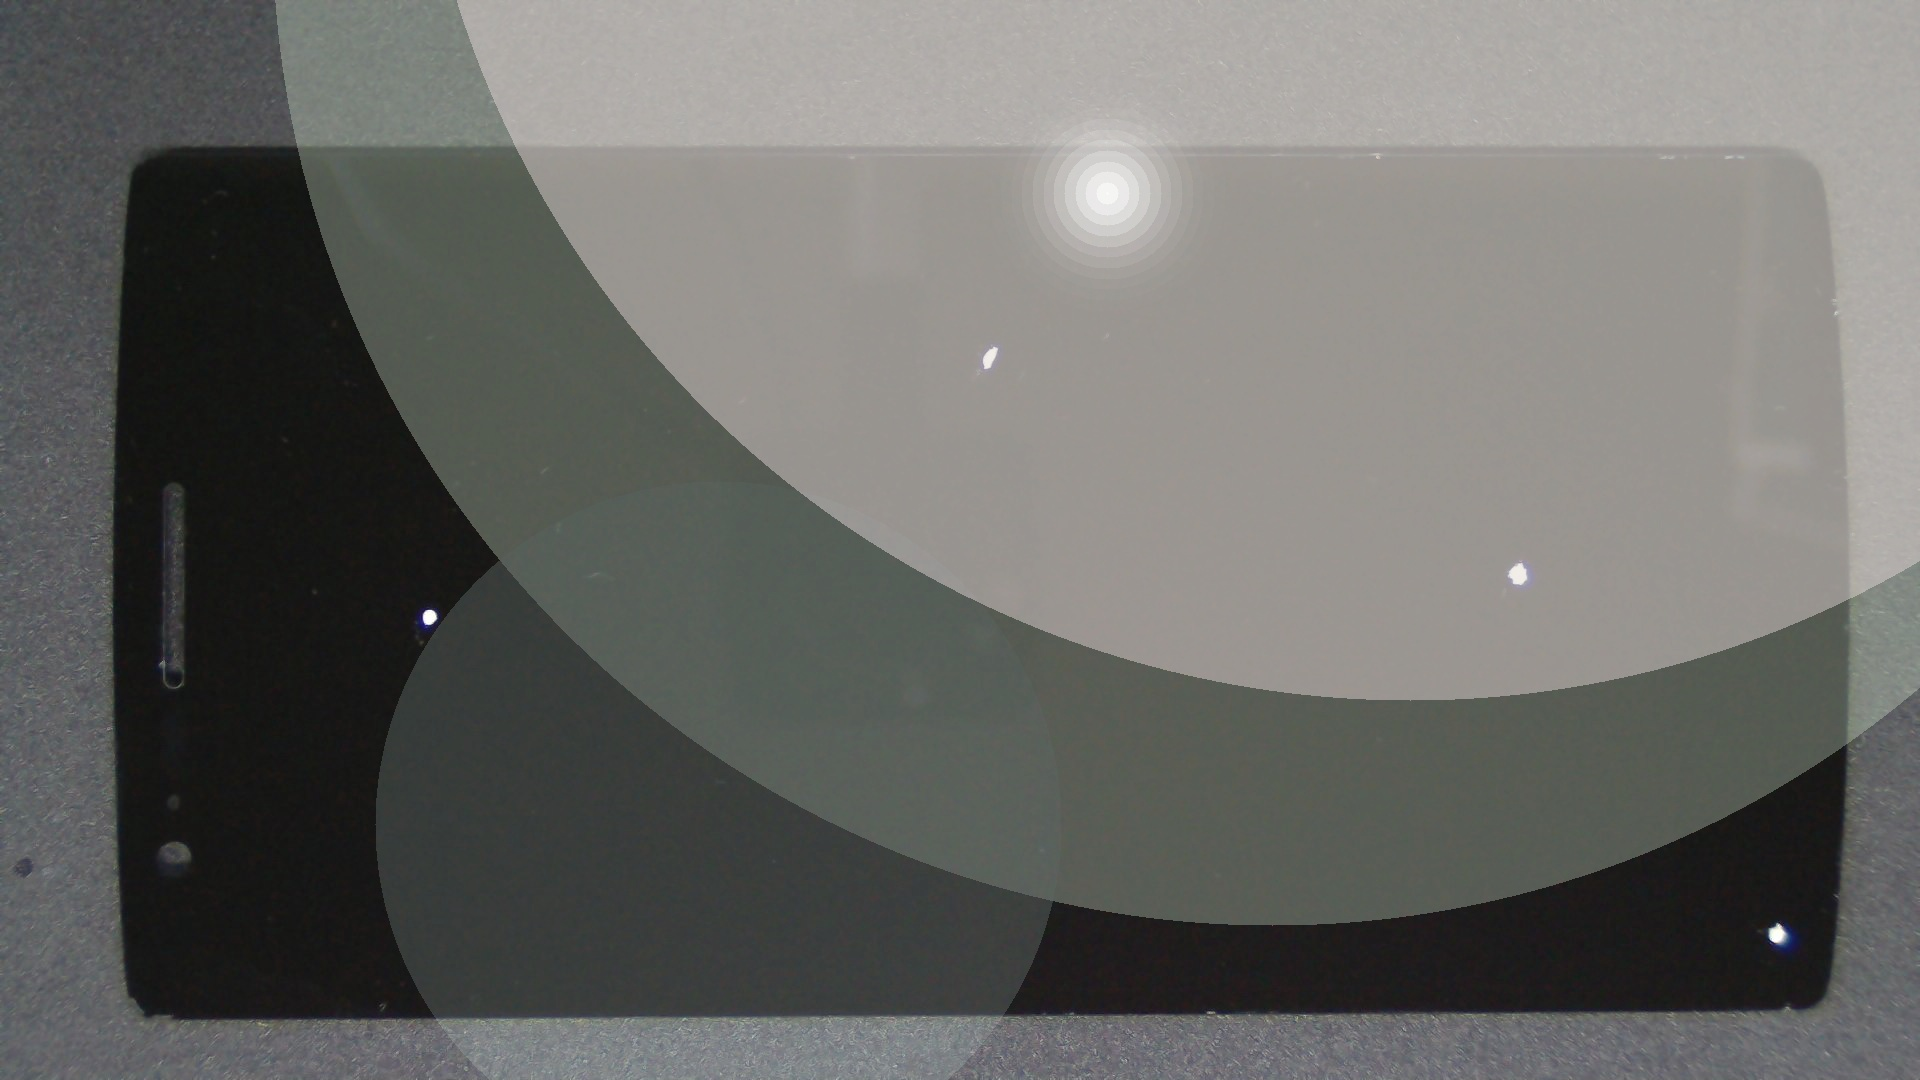oil: (762, 280, 1920, 843), (890, 460, 1920, 1080), (497, 171, 1490, 518), (214, 303, 637, 913)
